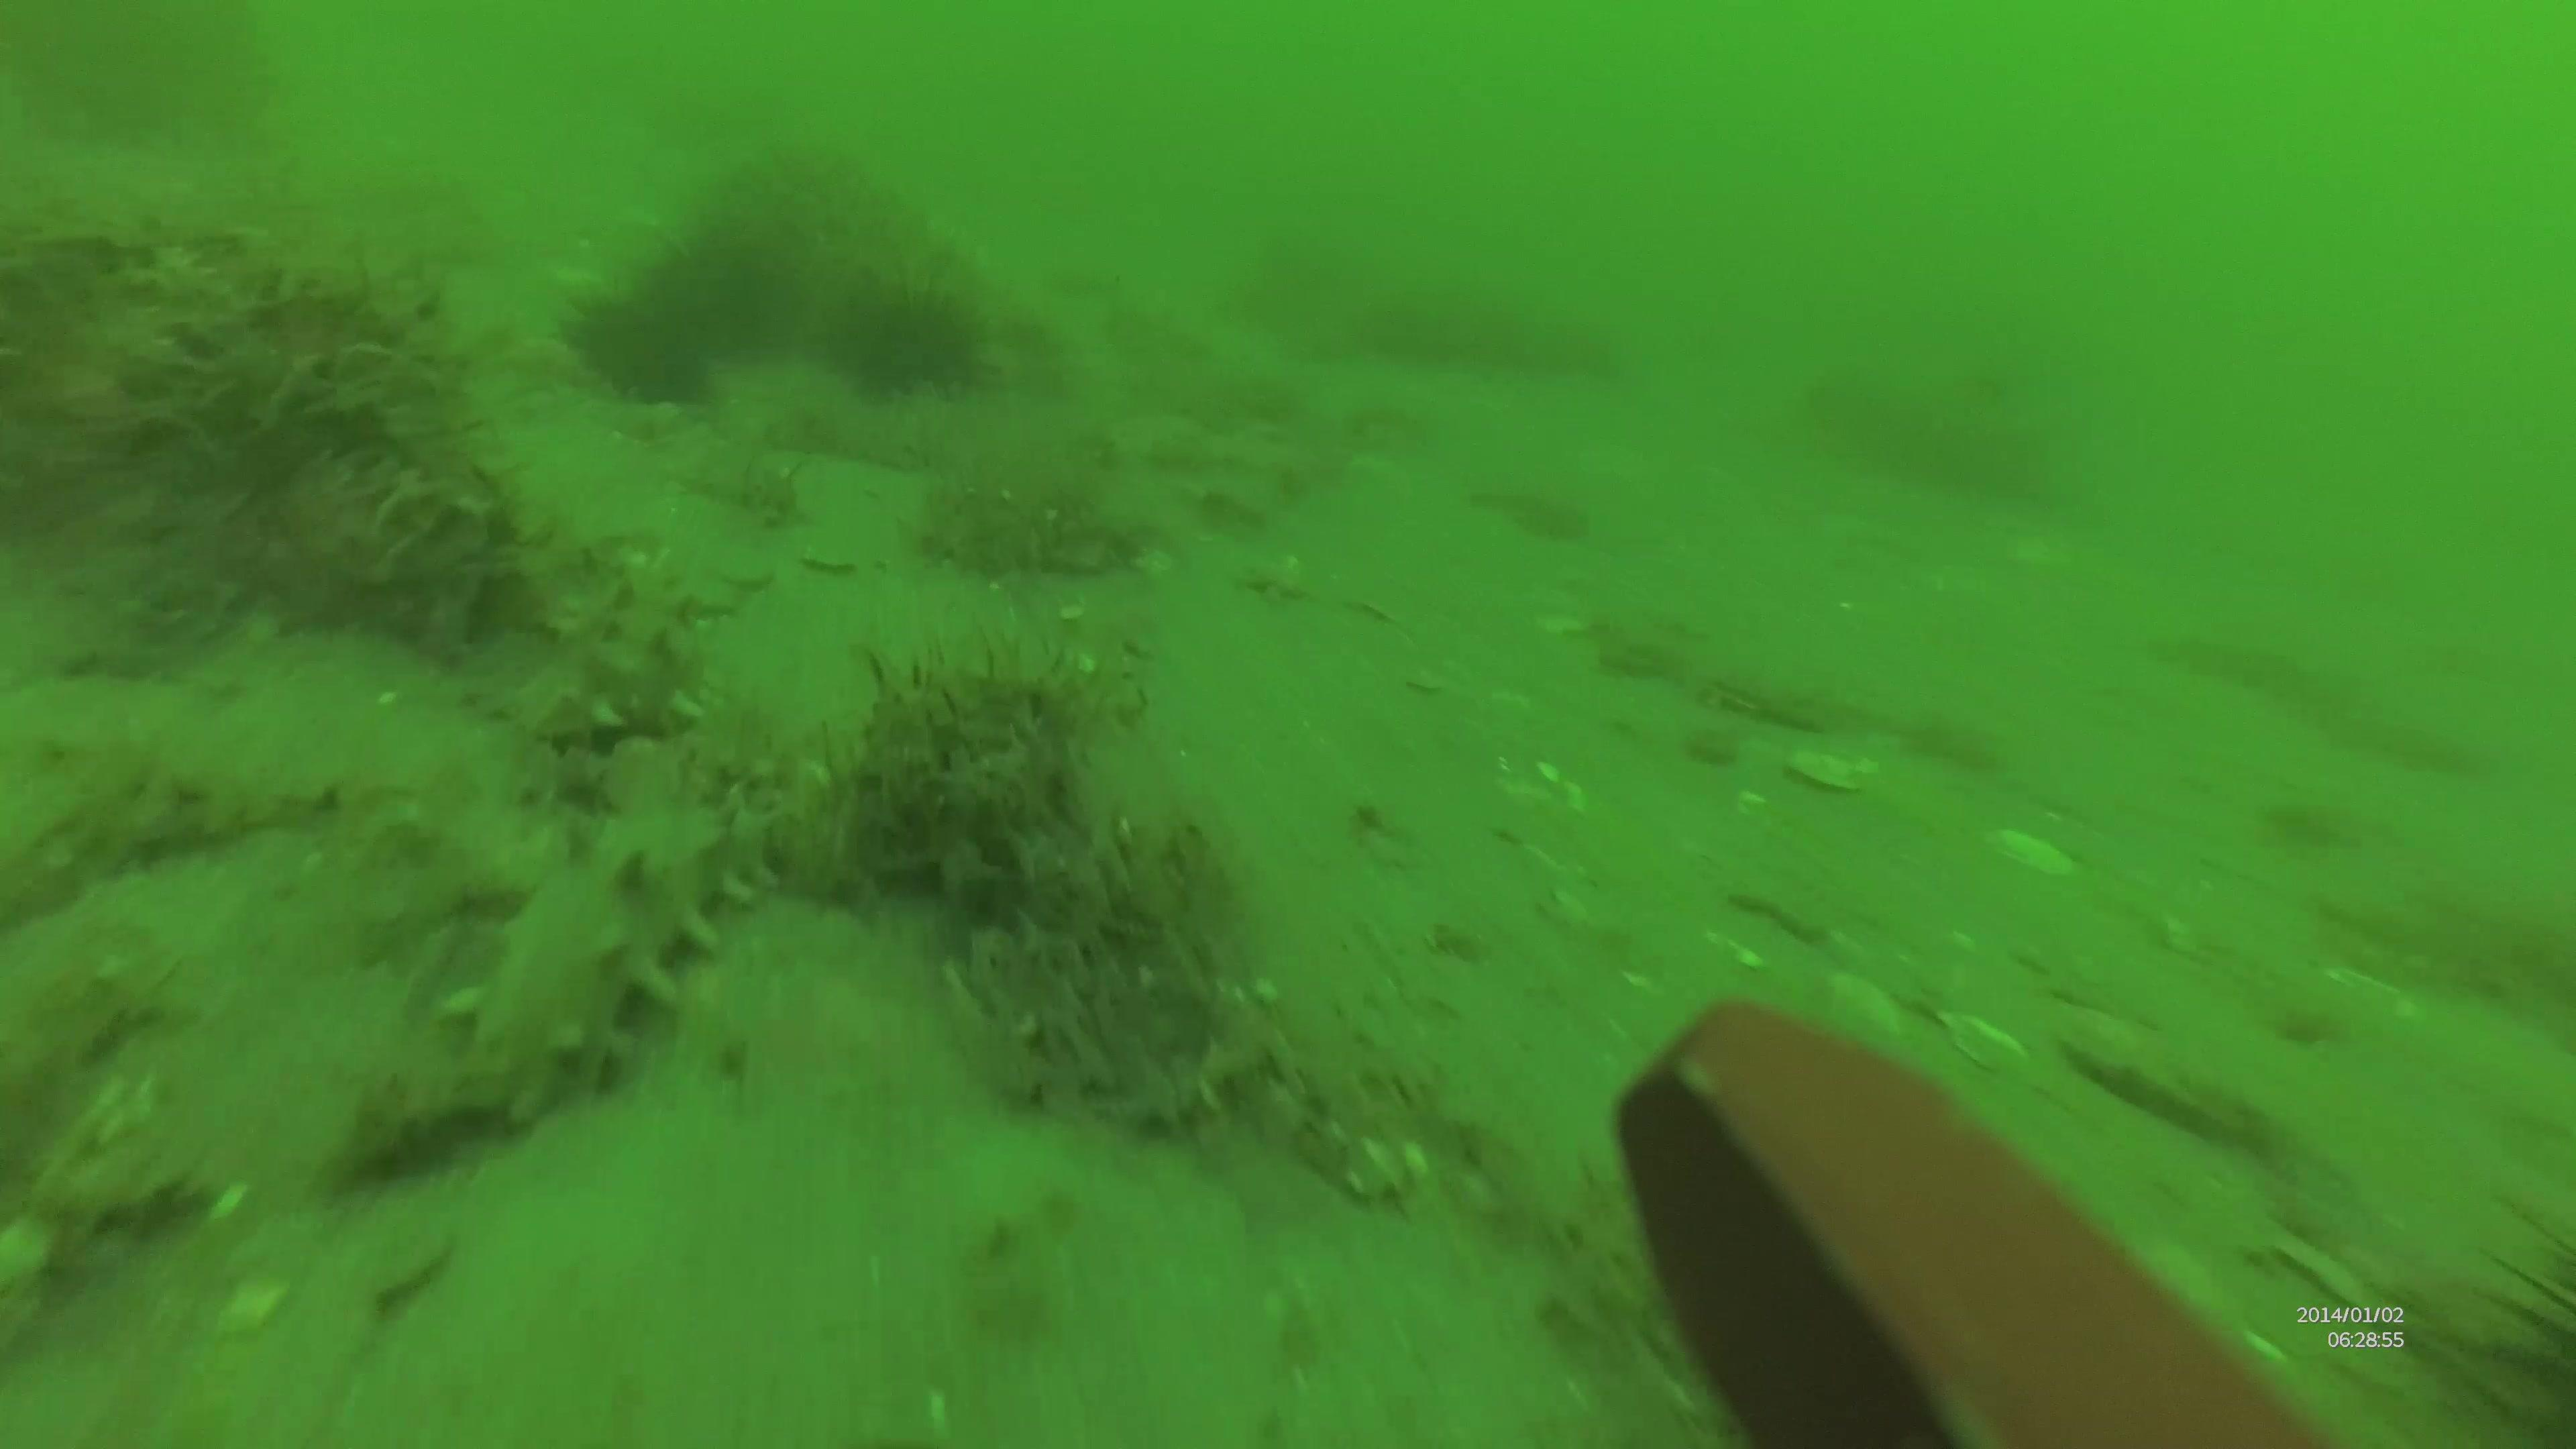echinus: (844, 265, 994, 402)
holothurian: (455, 766, 770, 1129), (529, 543, 711, 741)
